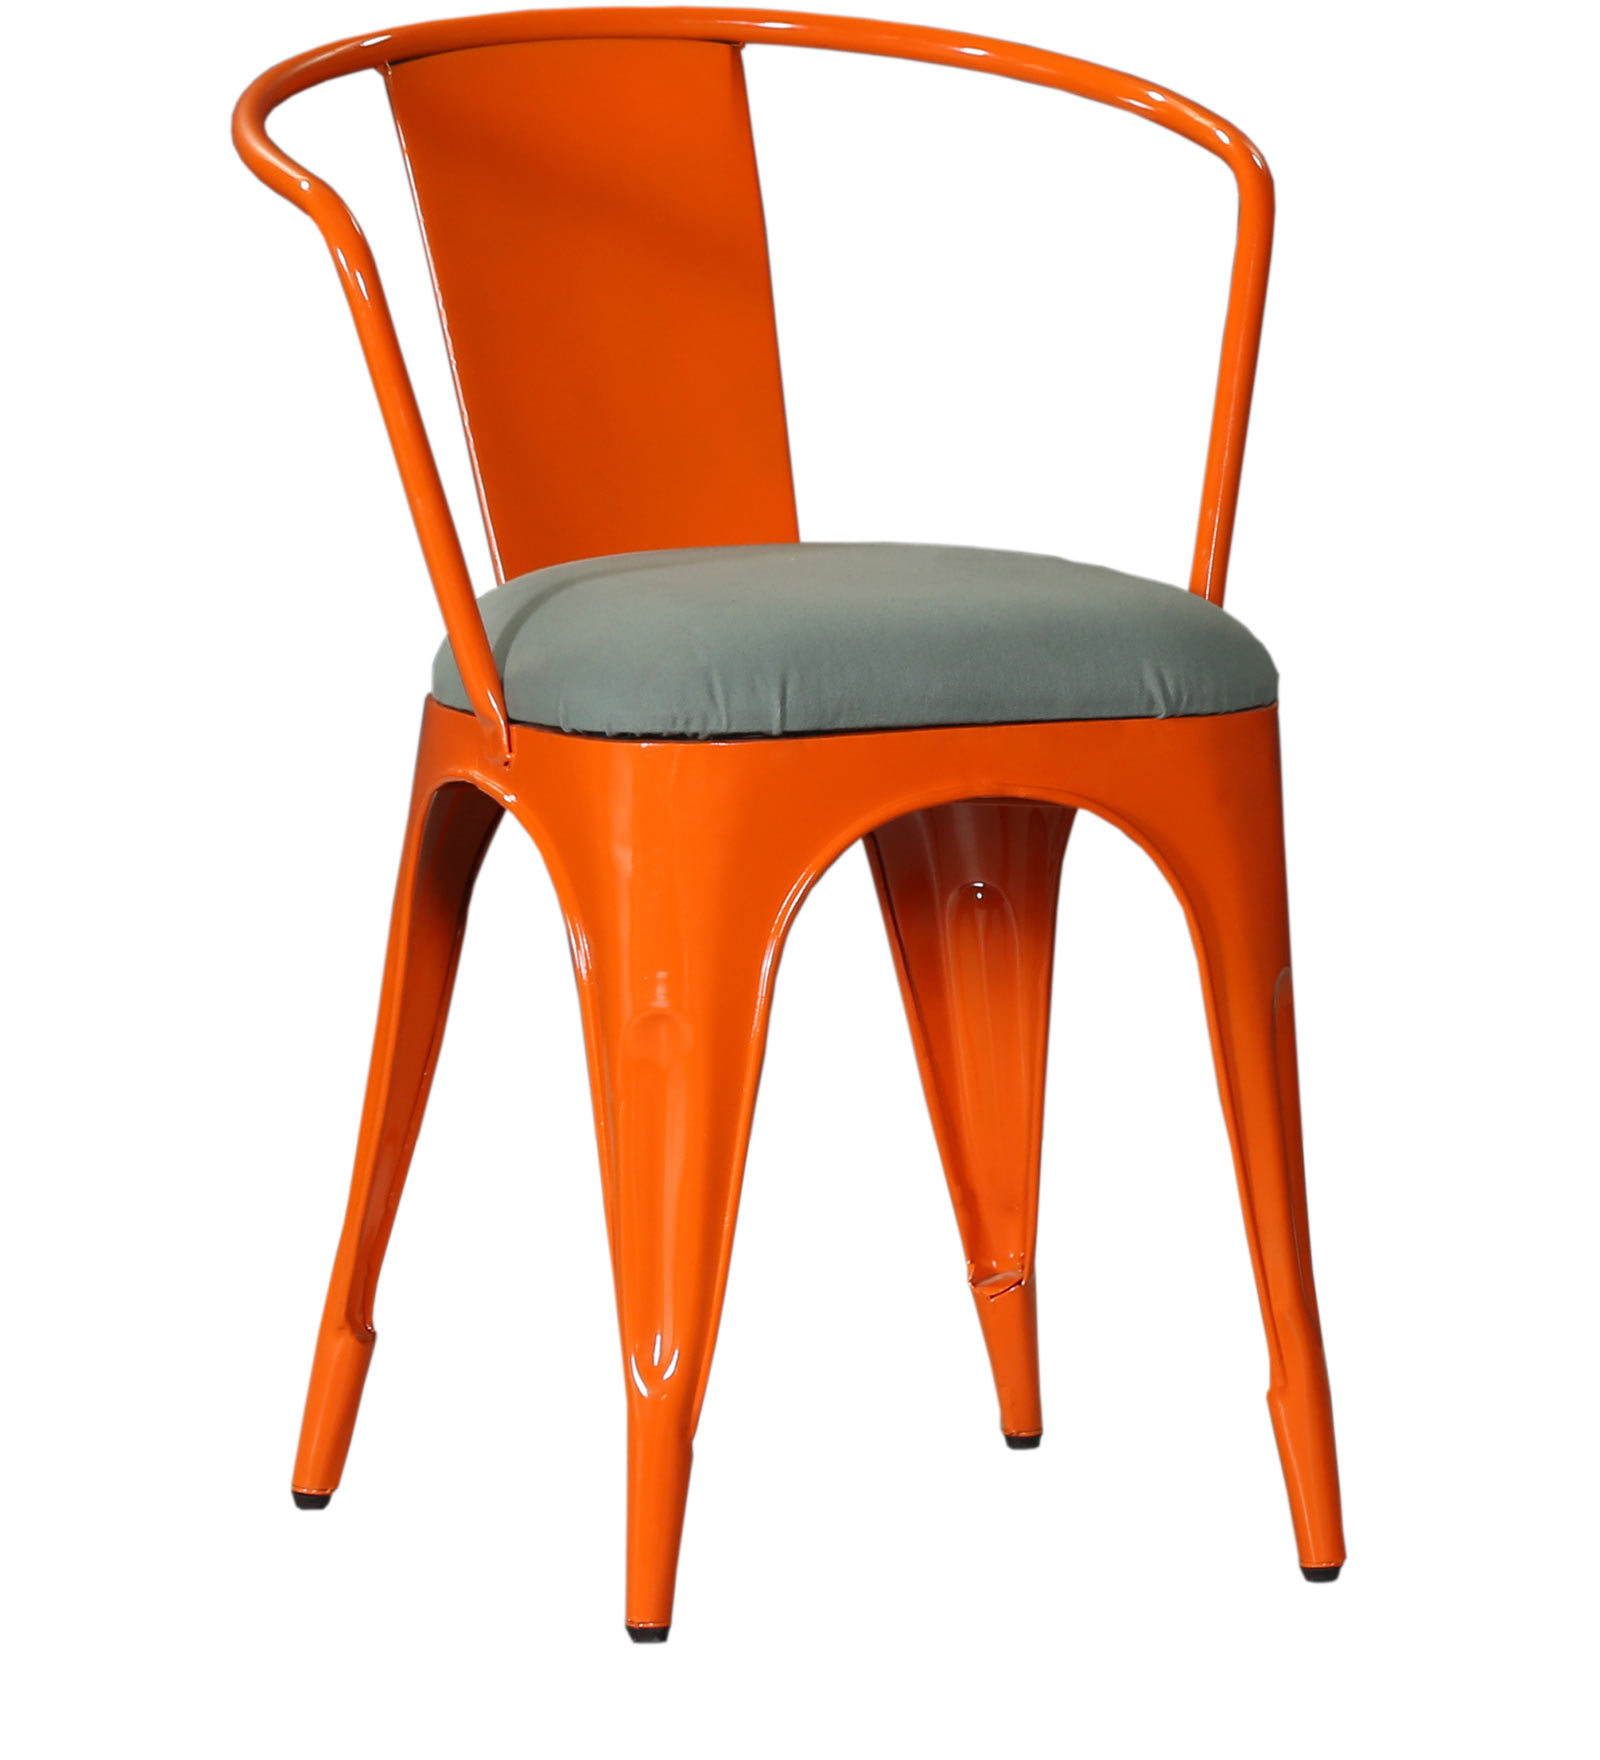Danlou Metal Chair with Cushion In Orange Colour by Bohemiana: (184, 8, 1381, 1647)
